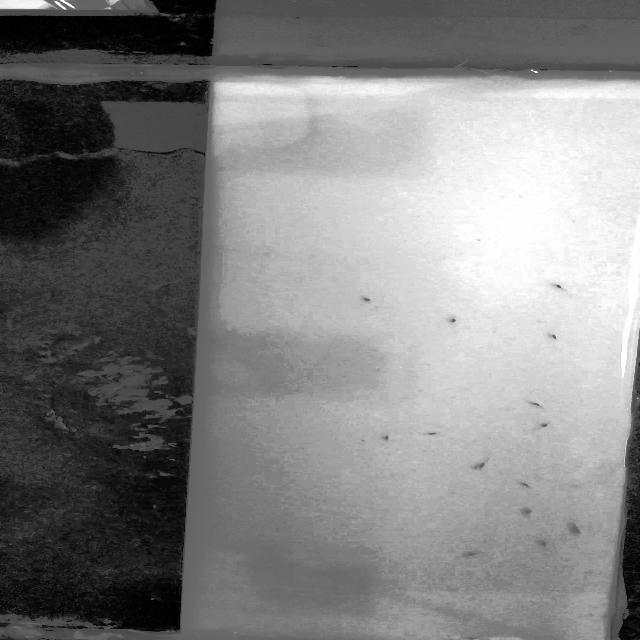shrimp: (438, 310, 476, 335), (533, 330, 576, 352), (559, 518, 596, 542), (540, 277, 573, 297), (468, 454, 502, 473), (349, 290, 380, 310), (517, 394, 548, 414), (527, 534, 563, 551), (501, 478, 538, 492), (533, 417, 563, 432), (459, 548, 489, 562), (421, 426, 448, 441), (513, 503, 543, 516), (378, 429, 398, 444)
